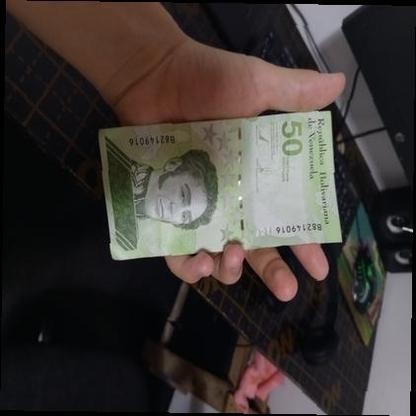fifty-front-vef: (98, 110, 342, 260)
